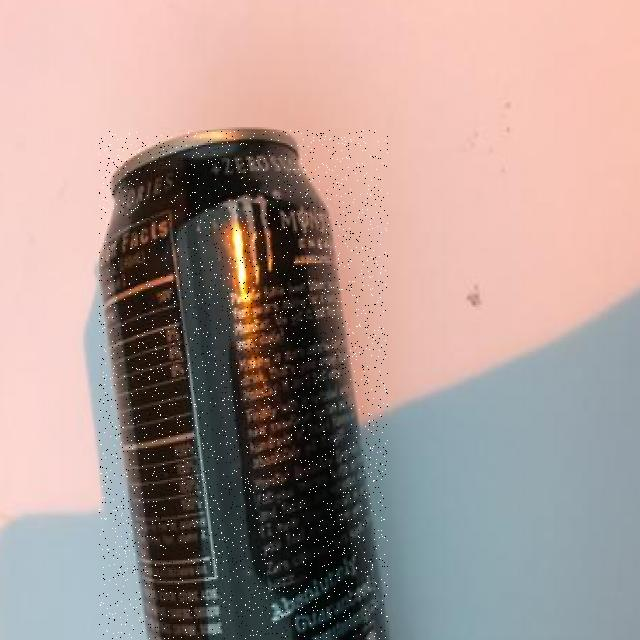metal: (99, 131, 388, 639)
